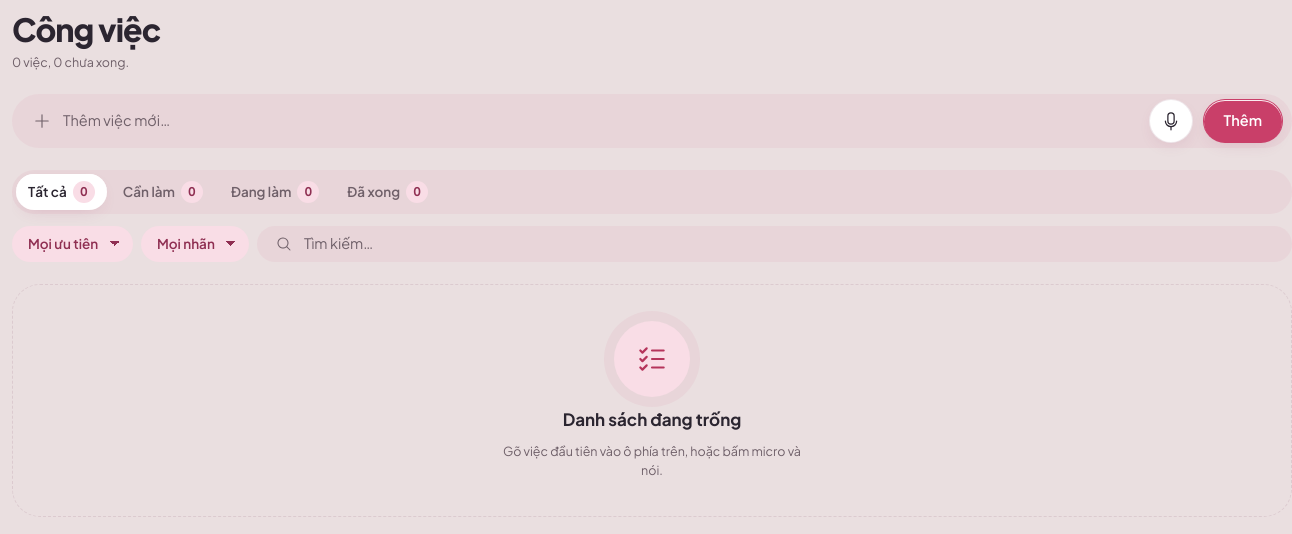
Test case: TasksPage › typing a title and pressing Enter adds a task
Type "Viết báo cáo" into the field with placeholder "Thêm việc mới…" at coordinates (600, 121), box [61, 109, 1139, 133]
Then press Enter
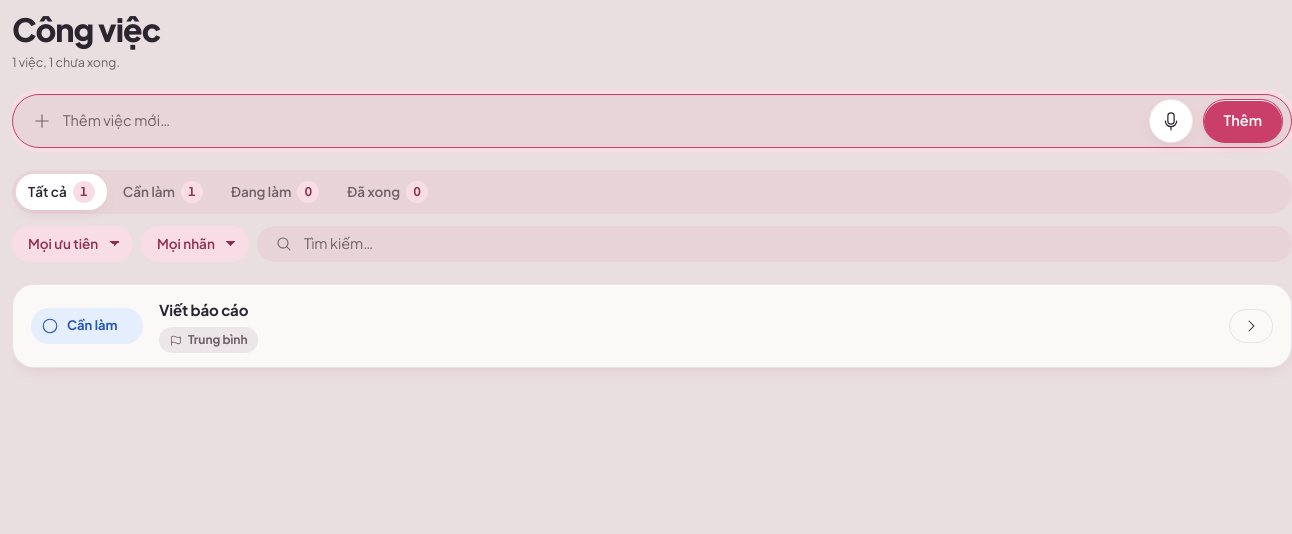
Result: the button "Viết báo cáo" is shown at [159, 299, 1213, 321]
